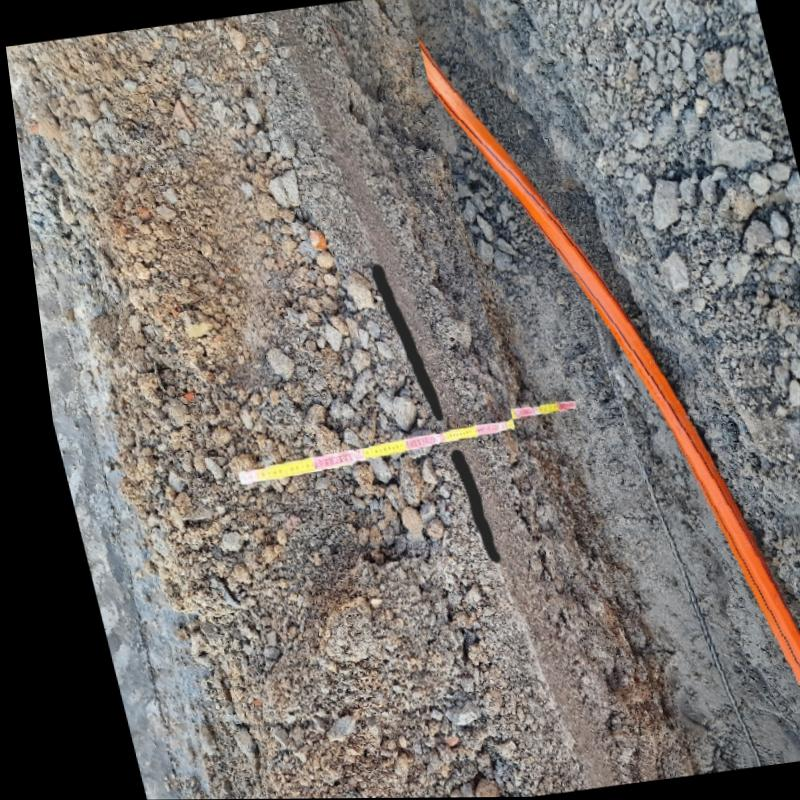Orang-Speednetrohrchen: (411, 13, 800, 721)
